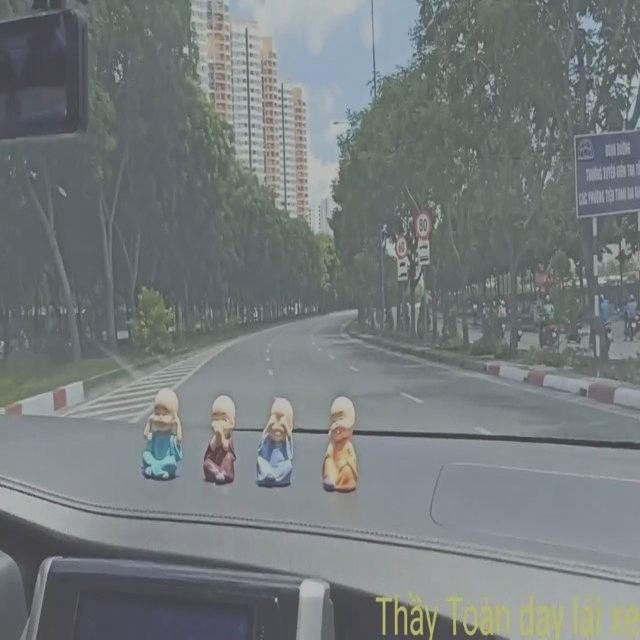Biển phụ: (416, 233, 433, 261), (396, 258, 408, 282)
Giới hạn tốc độ 60Km/h: (392, 229, 410, 258)
Giới hạn tốc độ 80Km/h: (412, 206, 431, 236)
Khác: (573, 128, 635, 213)
